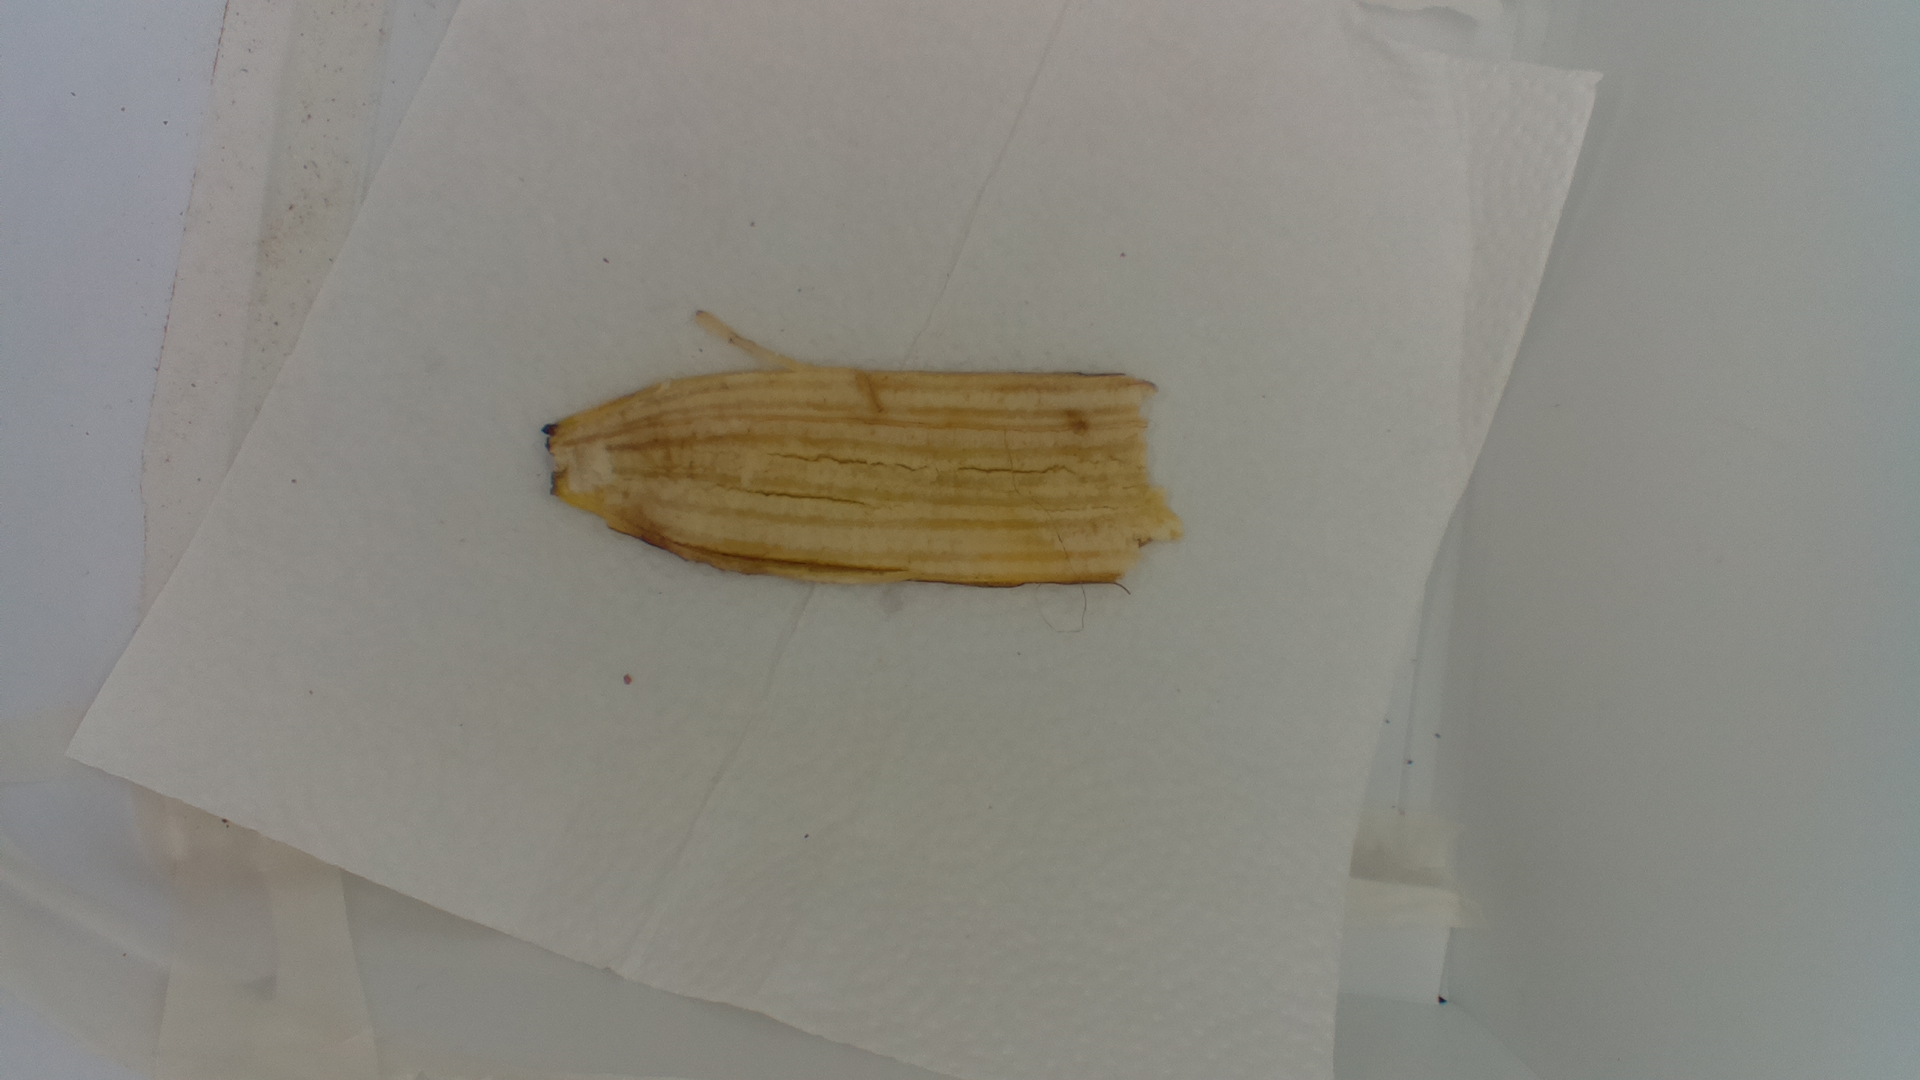fruit: (538, 315, 1188, 593)
